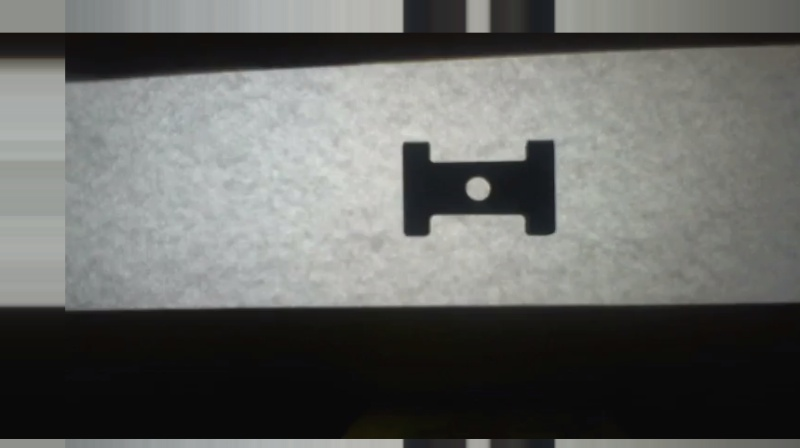O002: (397, 139, 558, 239)
